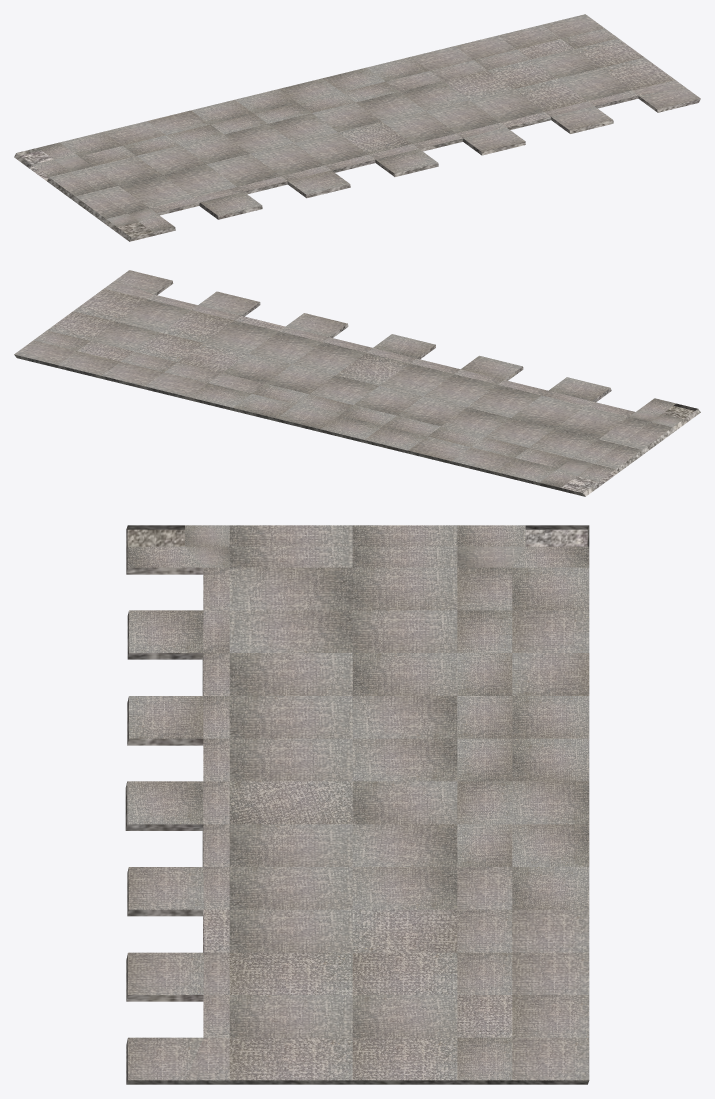
File: MainFloor.obj
3 views of the same model, one above another, from view 1: azimuth 30°, elevation 25°; view 2: azimuth 150°, elevation 25°; view 3: azimuth 270°, elevation 25° (orthographic). The views are drawn at different scales.
Parts seen in each view (by area): view 1: Floor; view 2: Floor; view 3: Floor.
Boxes of the visible parts, <box> form: Floor: <box>14,14,700,241</box>; Floor: <box>14,270,700,496</box>; Floor: <box>125,525,589,1084</box>.
Size of the model in its own units: 124 by 0.6937 by 43.42.
